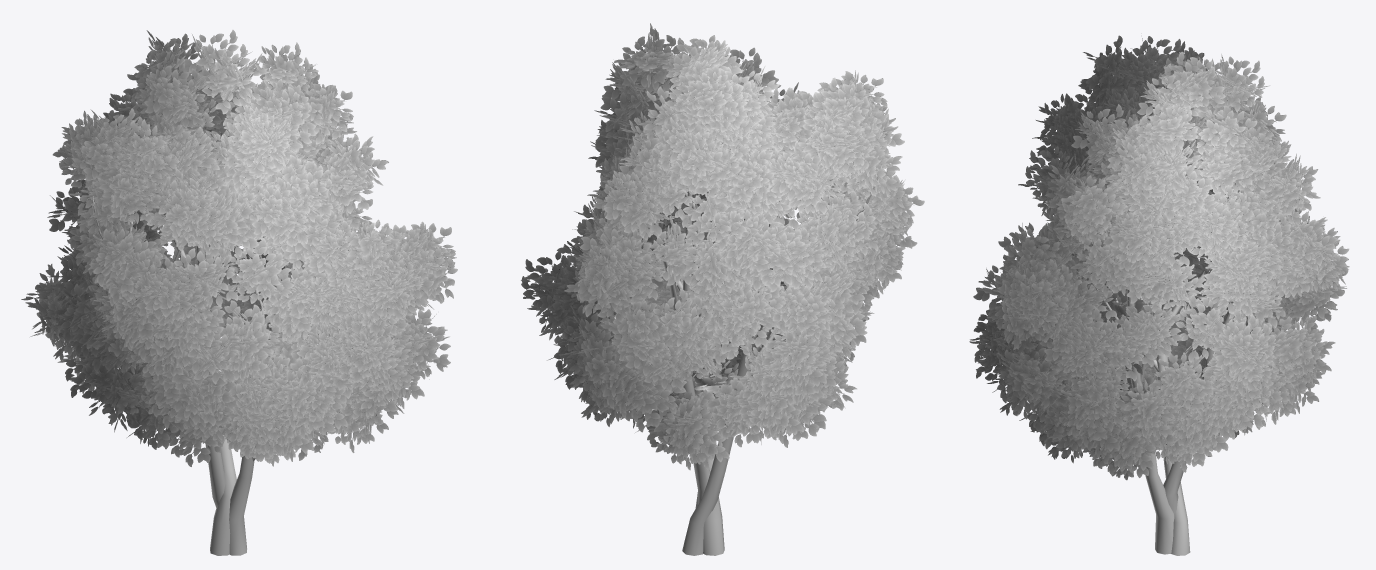
File: SM_Birch_03_Unity.fbx
3 renders of one model, left to right at view 1: azimuth 30°, elevation 25°; view 2: azimuth 150°, elevation 25°; view 3: azimuth 270°, elevation 25°, orthographic. The views are drawn at different scales.
Visible parts, largest first — view 1: Birch_03_LOD0; view 2: Birch_03_LOD0; view 3: Birch_03_LOD0.
Part boxes in pixels (x1,y1,x2,y2): Birch_03_LOD0: [21, 30, 457, 555]; Birch_03_LOD0: [521, 23, 924, 555]; Birch_03_LOD0: [969, 35, 1349, 555].
Size of what is drawn, in the model's own units: 87.21 by 126 by 92.33.
